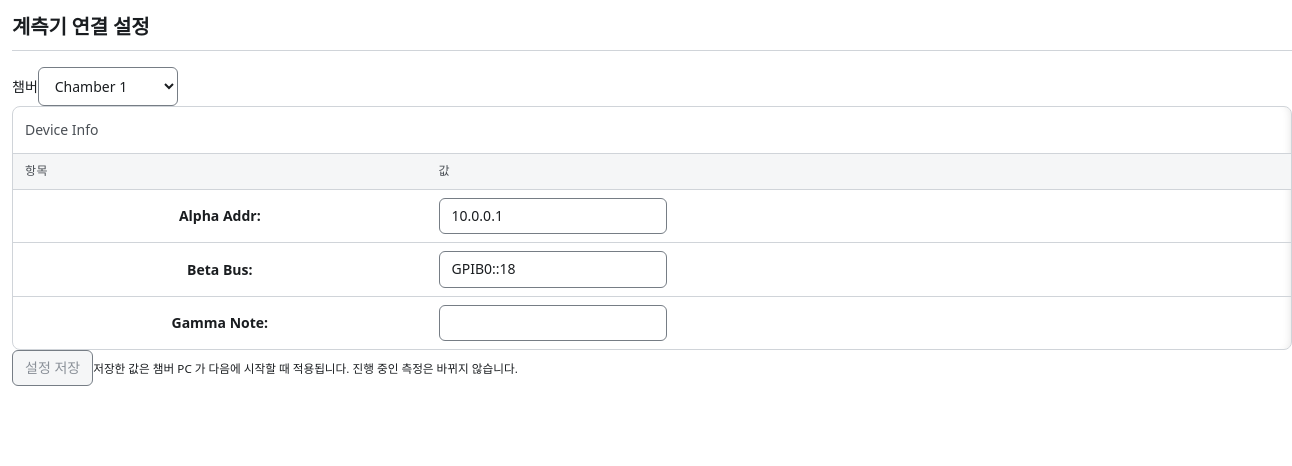
it: EquipmentConfigPanel › surfaces a failed save instead of reporting success
Type "x" into the 3rd field with test id "chambers-equipment-input" at (553, 323), box [439,305,667,341]
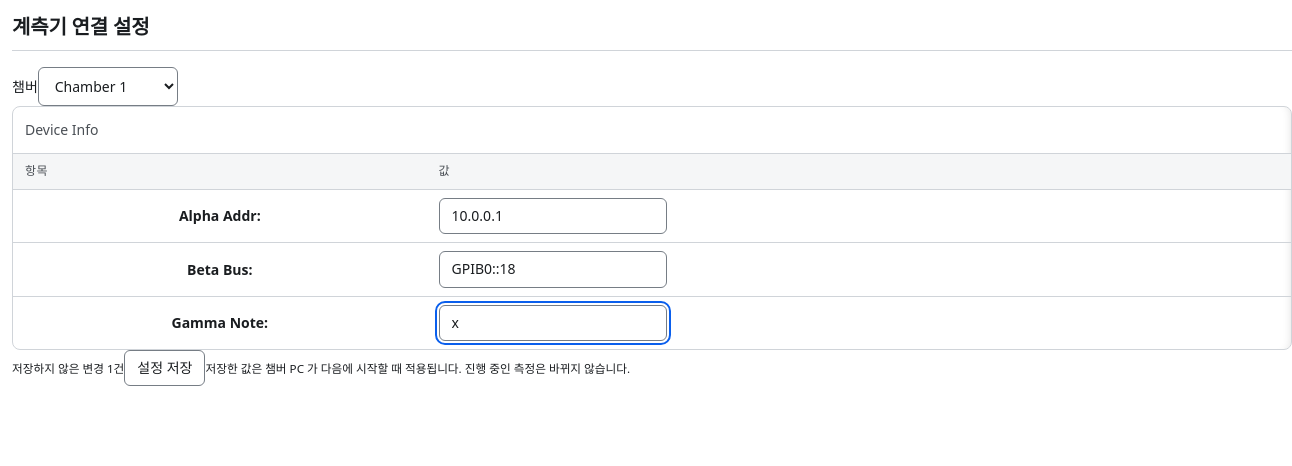
Click the button with test id "chambers-equipment-save" at (165, 368), box [124,350,206,386]
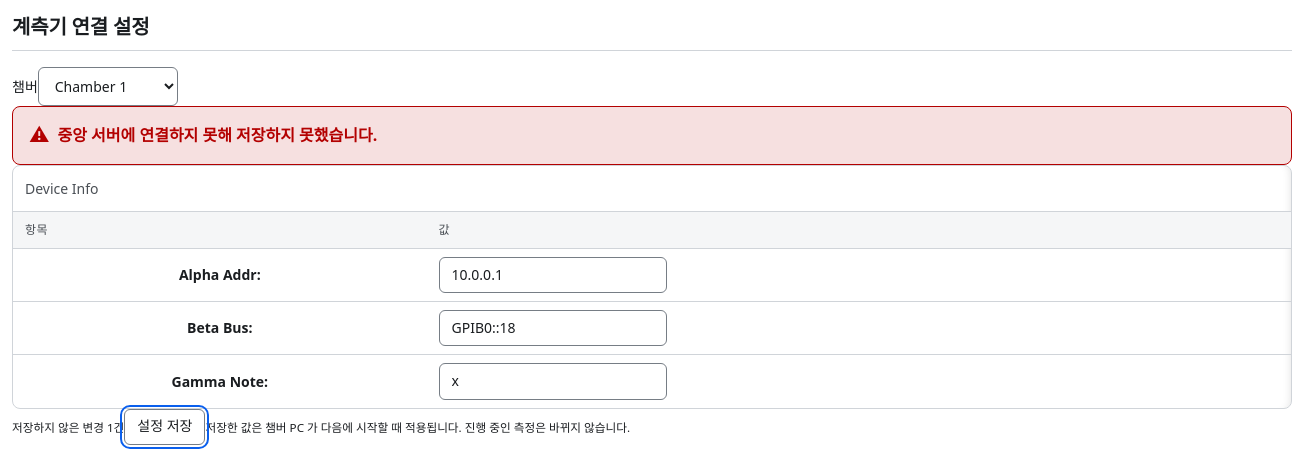
Check: the message "중앙 서버에 연결하지 못해 저장하지 못했습니다." is shown, box [12,106,1291,165]
